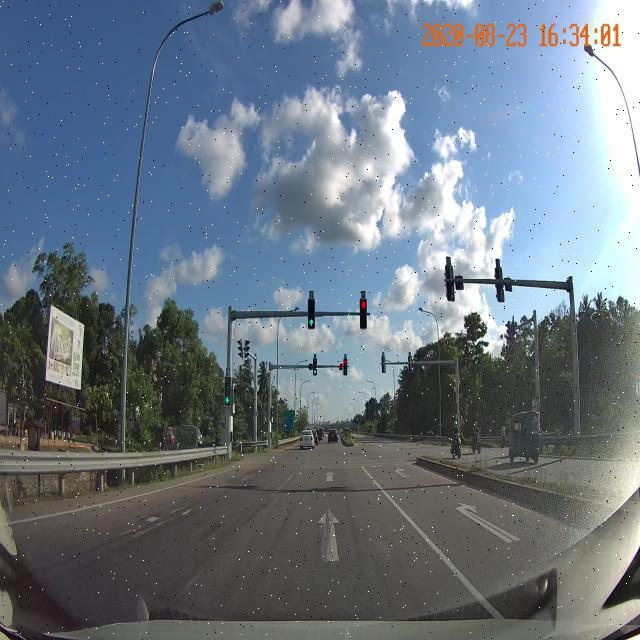forward: (204, 509, 453, 564)
